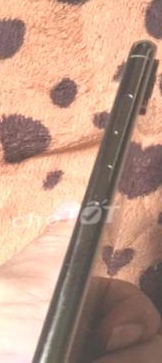scratch: (71, 239, 93, 290), (36, 332, 66, 363), (55, 285, 79, 321)
